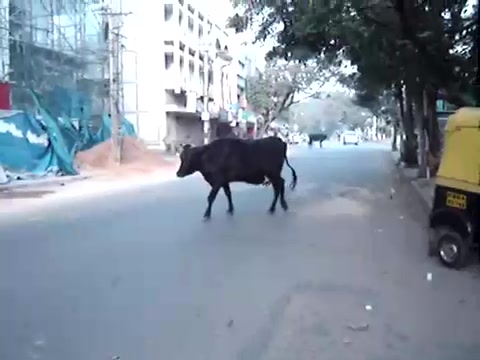cow: (178, 137, 298, 222)
